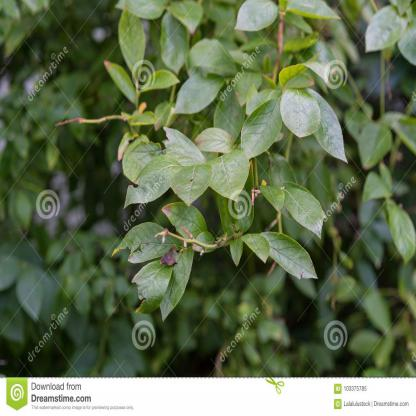blueberry leaf: (117, 129, 214, 213), (294, 72, 358, 170), (256, 228, 320, 295), (242, 86, 283, 174), (208, 144, 253, 208), (284, 80, 319, 156)
